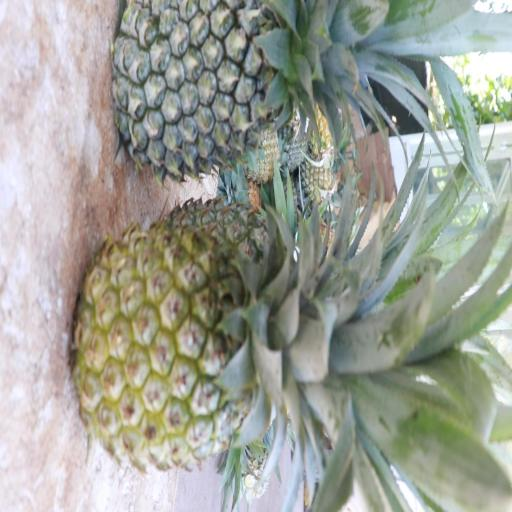------------------------------: (70, 214, 368, 476)
